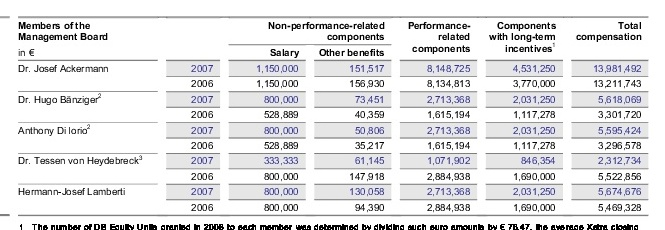table: (0, 0, 665, 230)
